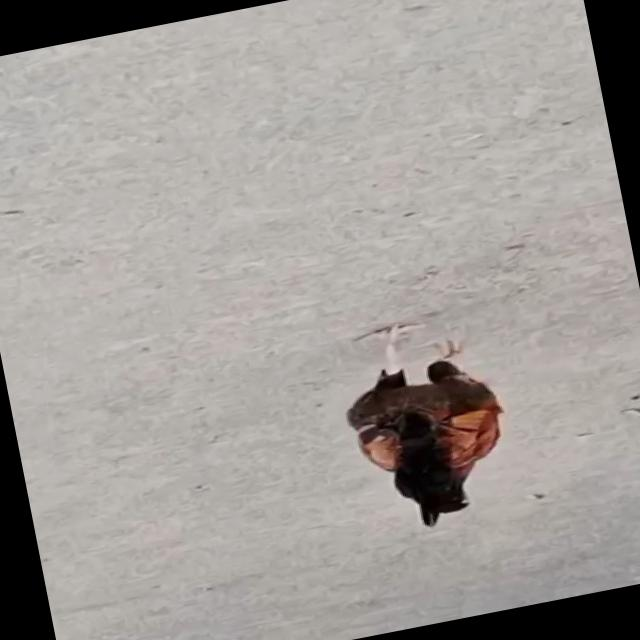walking: (318, 294, 530, 542)
